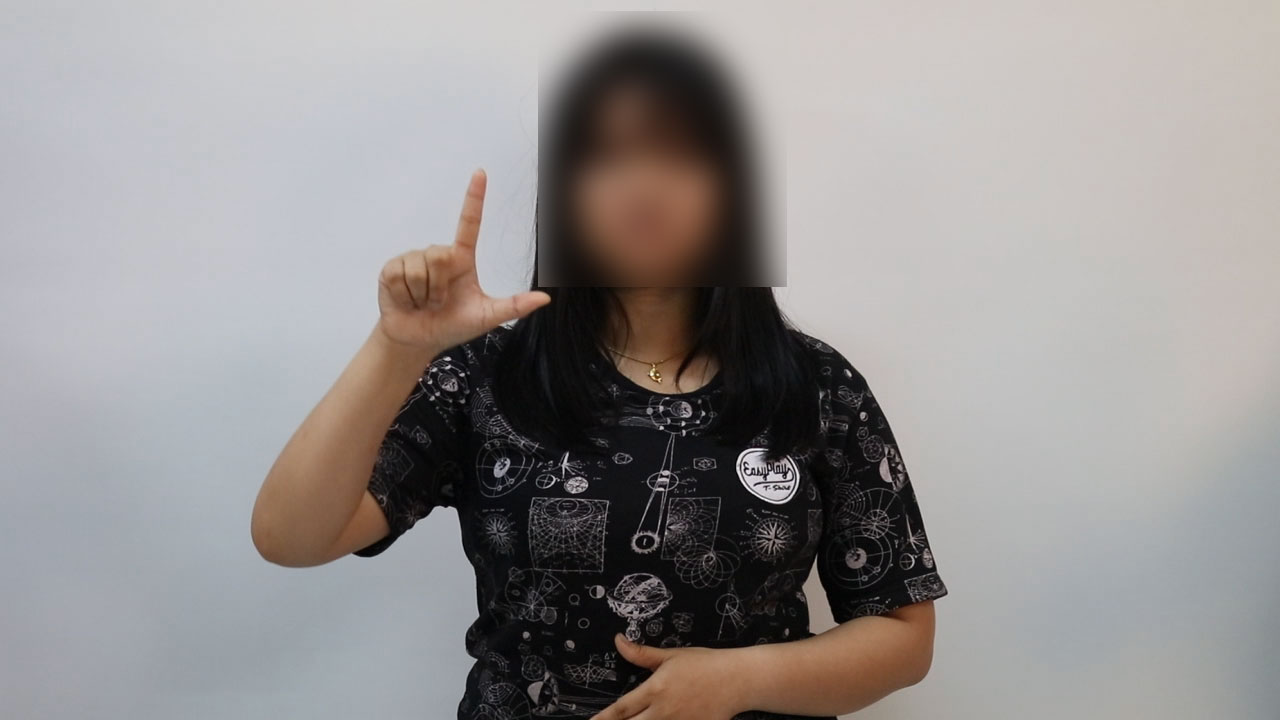lor: (358, 161, 566, 374)
